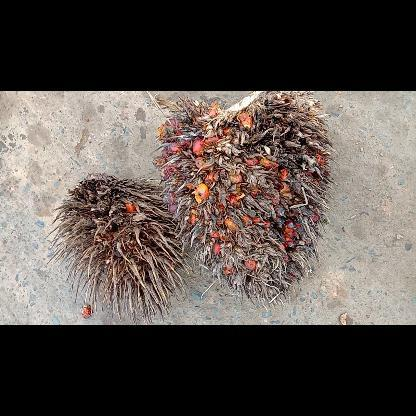Janjang kosong: (45, 172, 192, 324)
Terlalu masak: (153, 92, 339, 309)
